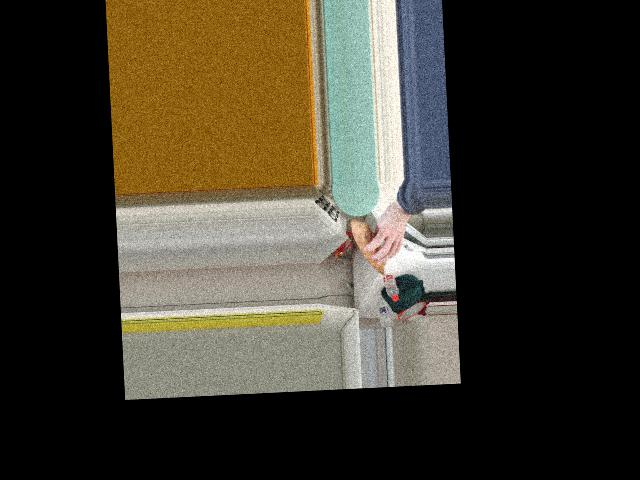sweet_potato: (352, 227, 395, 273)
